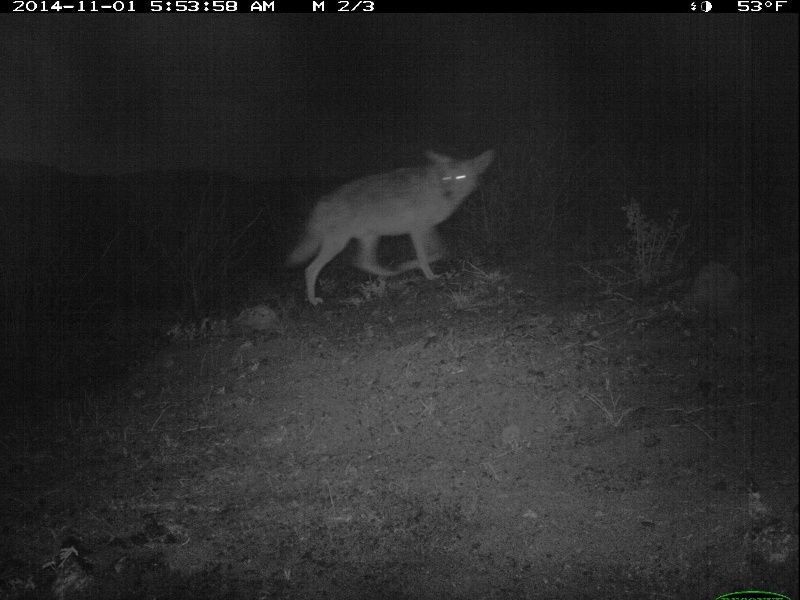coyote: (286, 142, 500, 312)
